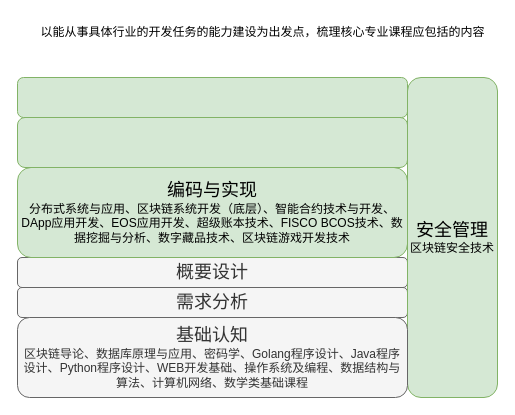
Image size: 515x415. Some labels were removed from this diagram. Here are the shapes that lost their labels. From the top down, the centre of each, then its label:
At point 212,97: "软件维护 区块链平台搭建与运维、虚拟化及容器技术".
At point 212,142: "联调测试 《区块链应用测试》".
